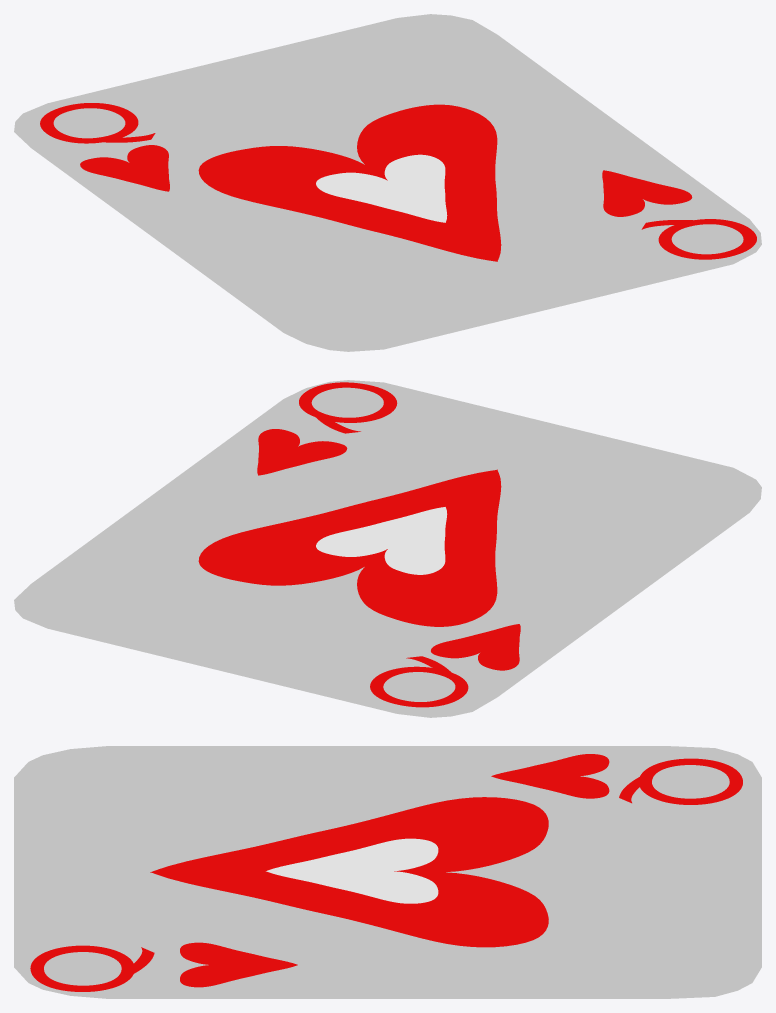
3 views of the same model, one above another, from view 1: azimuth 30°, elevation 25°; view 2: azimuth 150°, elevation 25°; view 3: azimuth 270°, elevation 25° (orthographic). The views are drawn at different scales.
Visible parts, largest first — view 1: QueenofHearts, Plane.075_Red.001, Plane.074_White.001, Plane.066_Red.001, Plane.065_Red.001, Font.027_Bla_Blac.002, Font.028_Bla_Blac.002; view 2: QueenofHearts, Plane.075_Red.001, Plane.074_White.001, Plane.066_Red.001, Plane.065_Red.001, Font.028_Bla_Blac.002, Font.027_Bla_Blac.002; view 3: QueenofHearts, Plane.075_Red.001, Plane.074_White.001, Plane.065_Red.001, Plane.066_Red.001, Font.028_Bla_Blac.002, Font.027_Bla_Blac.002.
Boxes of the visible parts, bbox=[...] form: QueenofHearts: bbox=[14, 14, 761, 351]; Plane.075_Red.001: bbox=[198, 104, 501, 261]; Plane.074_White.001: bbox=[316, 154, 447, 222]; Plane.066_Red.001: bbox=[80, 145, 169, 191]; Plane.065_Red.001: bbox=[602, 170, 692, 216]; Font.027_Bla_Blac.002: bbox=[40, 103, 155, 143]; Font.028_Bla_Blac.002: bbox=[641, 219, 756, 259]; QueenofHearts: bbox=[14, 380, 761, 717]; Plane.075_Red.001: bbox=[198, 469, 501, 626]; Plane.074_White.001: bbox=[316, 507, 447, 574]; Plane.066_Red.001: bbox=[431, 624, 520, 670]; Plane.065_Red.001: bbox=[257, 429, 347, 475]; Font.028_Bla_Blac.002: bbox=[299, 382, 397, 433]; Font.027_Bla_Blac.002: bbox=[370, 656, 468, 707]; QueenofHearts: bbox=[14, 746, 761, 998]; Plane.075_Red.001: bbox=[150, 797, 548, 947]; Plane.074_White.001: bbox=[266, 838, 438, 903]; Plane.065_Red.001: bbox=[180, 942, 297, 987]; Plane.066_Red.001: bbox=[491, 754, 609, 798]; Font.028_Bla_Blac.002: bbox=[30, 945, 154, 991]; Font.027_Bla_Blac.002: bbox=[619, 758, 742, 804].
Size of the model in its own units: 1.6 by 0.00374 by 2.
